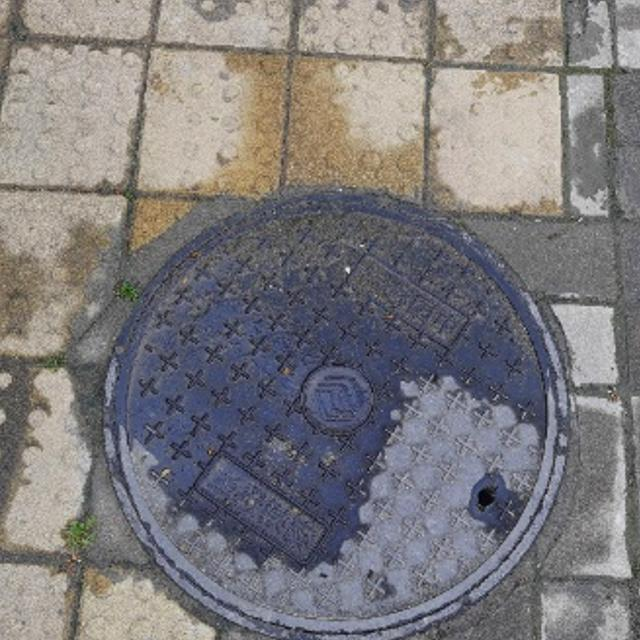good: (102, 194, 571, 640)
